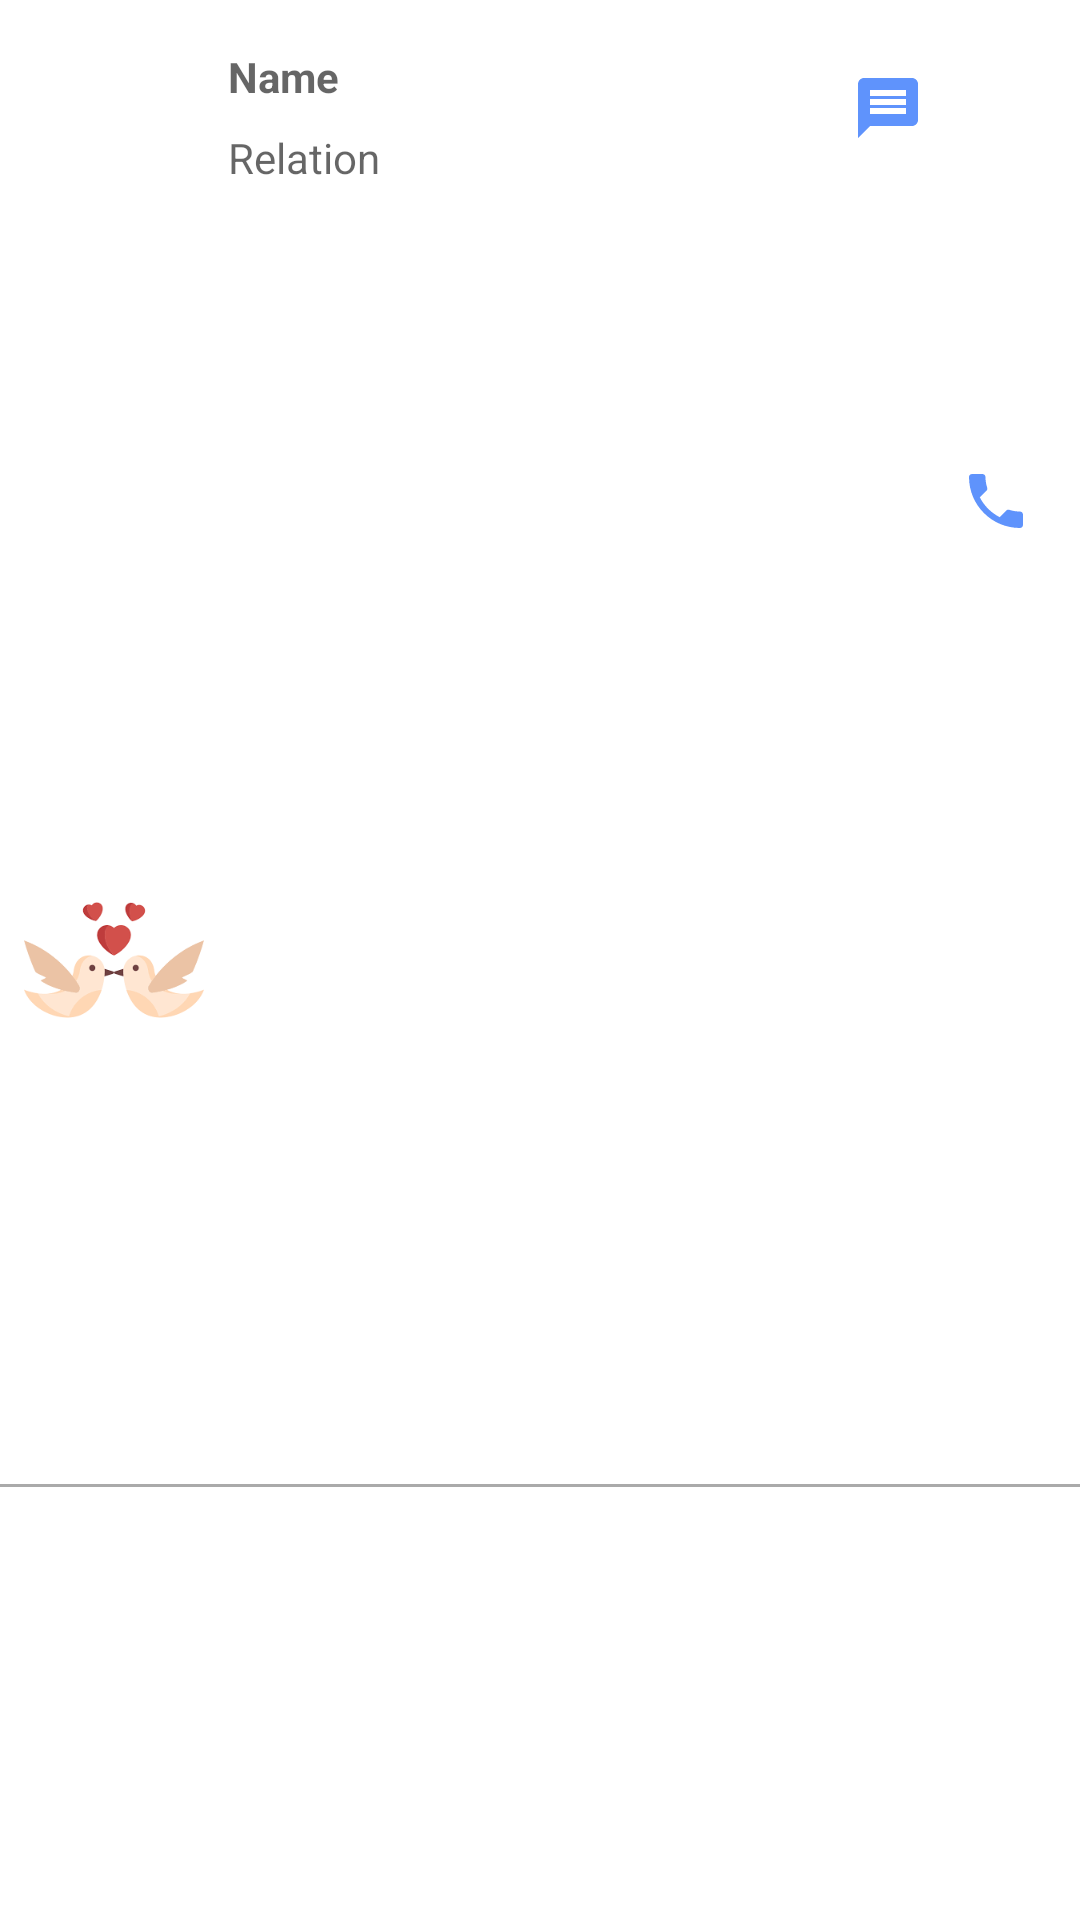

Where to tap for icons on this 1080x1920 app screen, as point (x, y):
call: point (996, 501)
message: point (888, 108)
